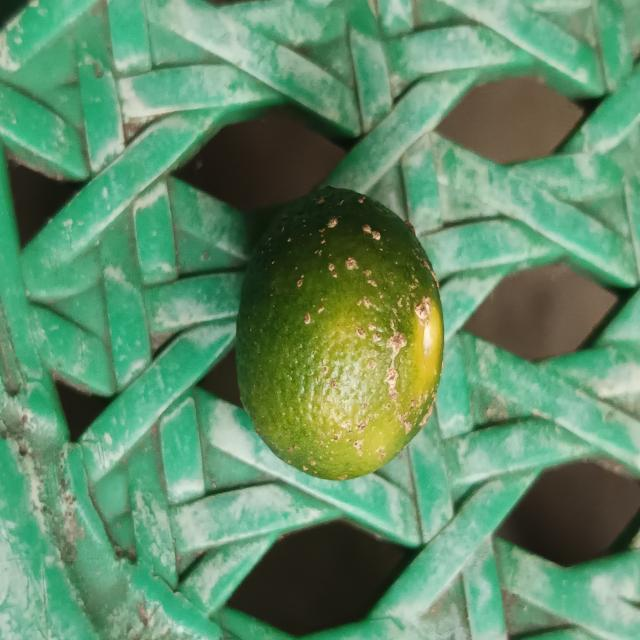scab: (235, 182, 444, 468)
